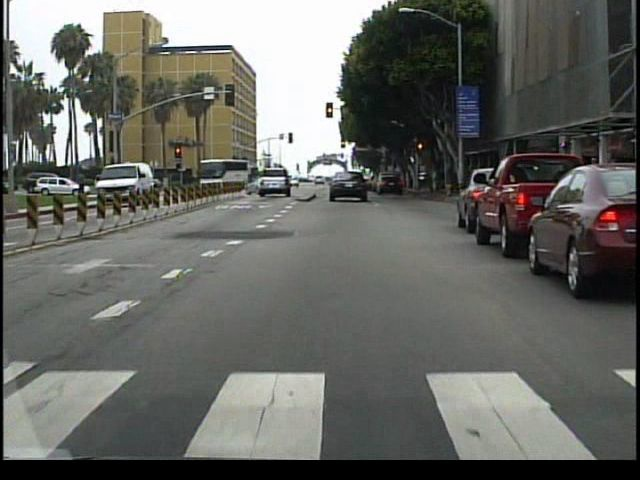person: (95, 172, 108, 207), (78, 167, 91, 196), (99, 171, 100, 203)
